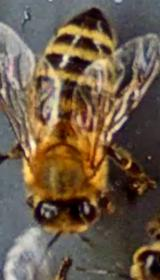varroa_mite: (70, 106, 106, 136)
